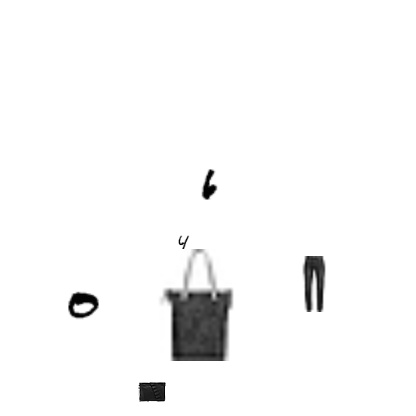0: (61, 283, 103, 325)
4: (172, 231, 194, 253)
6: (187, 165, 229, 207)
Bag: (140, 249, 252, 361), (138, 378, 166, 406)
Trouser: (285, 256, 341, 312)
